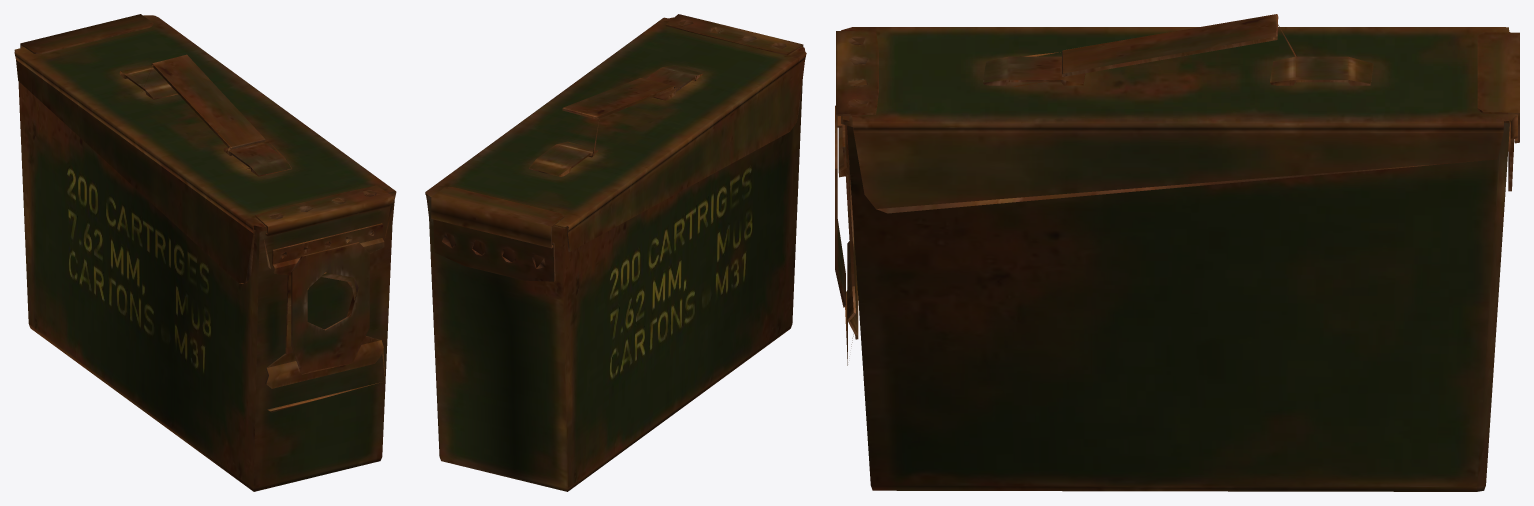
Rendered from ammo_box.glb.
3 views of the same model, side by side, from view 1: azimuth 30°, elevation 25°; view 2: azimuth 150°, elevation 25°; view 3: azimuth 270°, elevation 25° (orthographic). The views are drawn at different scales.
Parts seen in each view (by area): view 1: ammo_box_handle_ring_b; view 2: ammo_box_handle_ring_b; view 3: ammo_box_handle_ring_b.
Boxes of the visible parts, <box> form: ammo_box_handle_ring_b: <box>14,14,396,491</box>; ammo_box_handle_ring_b: <box>425,14,806,491</box>; ammo_box_handle_ring_b: <box>835,14,1519,491</box>.
Bounding box in the file's own units: 0.0855 × 0.1758 × 0.2576.
Materials: 1 (1 with a texture image).
